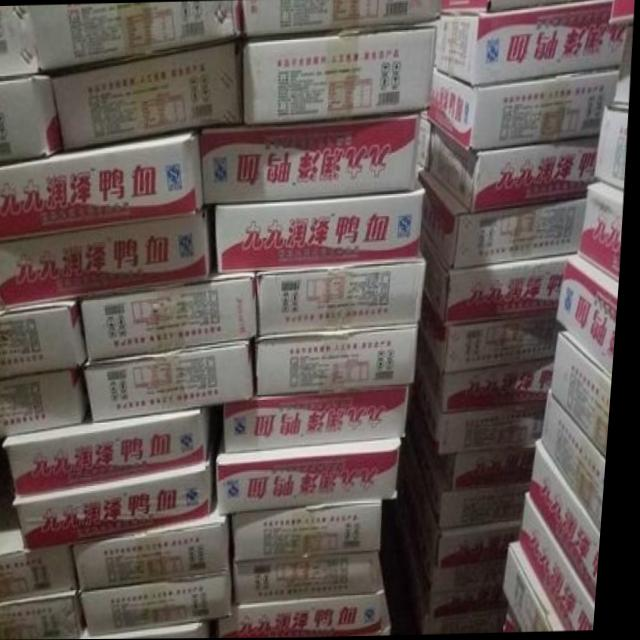box: (0, 127, 206, 242), (0, 207, 216, 309), (17, 445, 222, 550), (53, 41, 244, 149), (203, 112, 422, 204), (218, 178, 428, 273), (243, 27, 436, 126), (8, 406, 218, 496), (413, 388, 536, 530), (80, 486, 239, 592), (85, 268, 264, 361), (423, 169, 588, 269), (27, 0, 244, 76), (422, 68, 620, 151), (436, 0, 628, 85), (425, 229, 579, 327), (430, 125, 601, 213), (221, 435, 408, 515), (259, 253, 432, 337), (88, 340, 262, 423), (414, 448, 528, 568), (409, 490, 516, 617), (406, 518, 516, 635), (229, 385, 415, 451), (536, 439, 609, 606), (0, 467, 87, 606), (420, 364, 551, 456), (261, 325, 423, 397), (423, 328, 558, 413), (424, 297, 571, 374), (526, 493, 605, 631), (89, 571, 243, 634), (238, 499, 390, 561), (547, 393, 613, 535), (557, 330, 618, 459), (241, 552, 389, 604), (561, 253, 623, 375), (0, 298, 92, 379), (240, 0, 441, 37), (228, 593, 392, 638), (0, 367, 96, 439), (512, 540, 577, 632), (0, 73, 65, 161), (0, 590, 94, 640), (582, 181, 626, 283), (444, 445, 541, 489), (598, 104, 630, 192), (0, 5, 38, 75), (90, 621, 219, 639), (616, 25, 633, 105), (488, 0, 586, 13), (420, 117, 435, 171), (610, 0, 634, 27), (441, 0, 488, 11)
